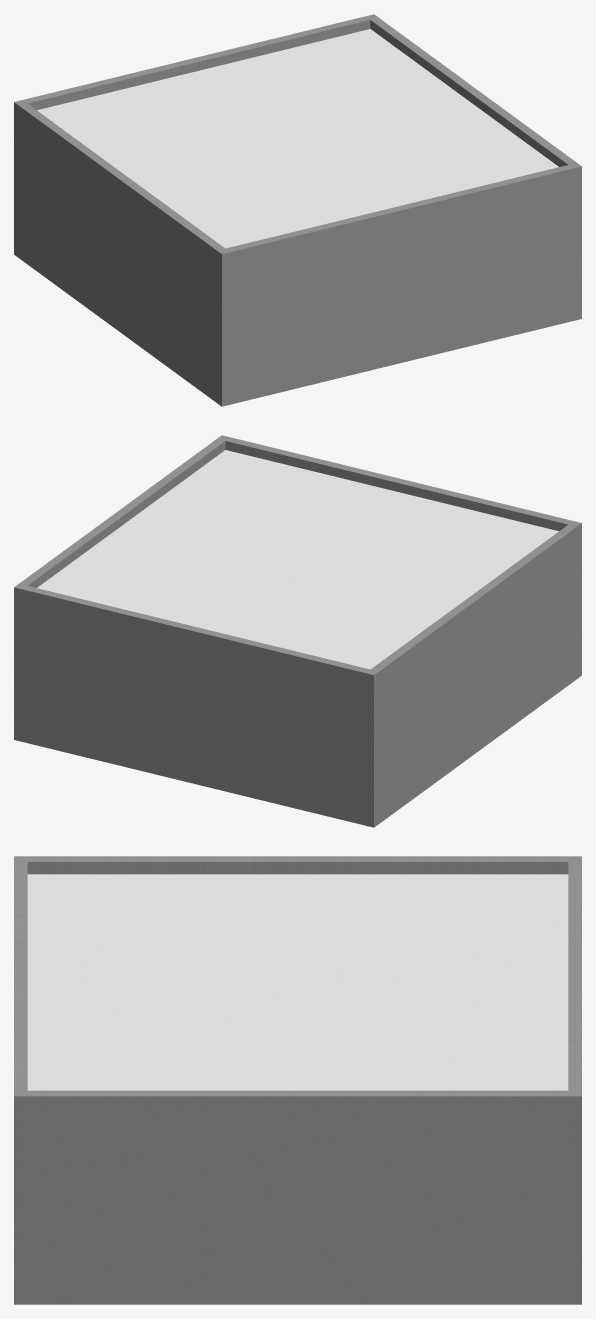
The model's file is JumpStand.FBX.
3 views of the same model, one above another, from view 1: azimuth 30°, elevation 25°; view 2: azimuth 150°, elevation 25°; view 3: azimuth 270°, elevation 25° (orthographic). The views are drawn at different scales.
Visible parts, largest first — view 1: Jump; view 2: Jump; view 3: Jump.
Boxes of the visible parts, left/top/right/bottom form: Jump: left=14, top=14, right=581, bottom=406; Jump: left=14, top=435, right=581, bottom=827; Jump: left=14, top=856, right=581, bottom=1304.
Size of the model in its own units: 210 by 210 by 85.
2 materials, 2 textured.
